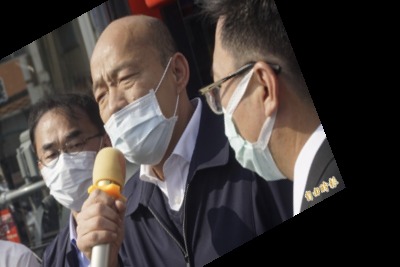mask_weared_incorrect: (79, 19, 200, 166)
